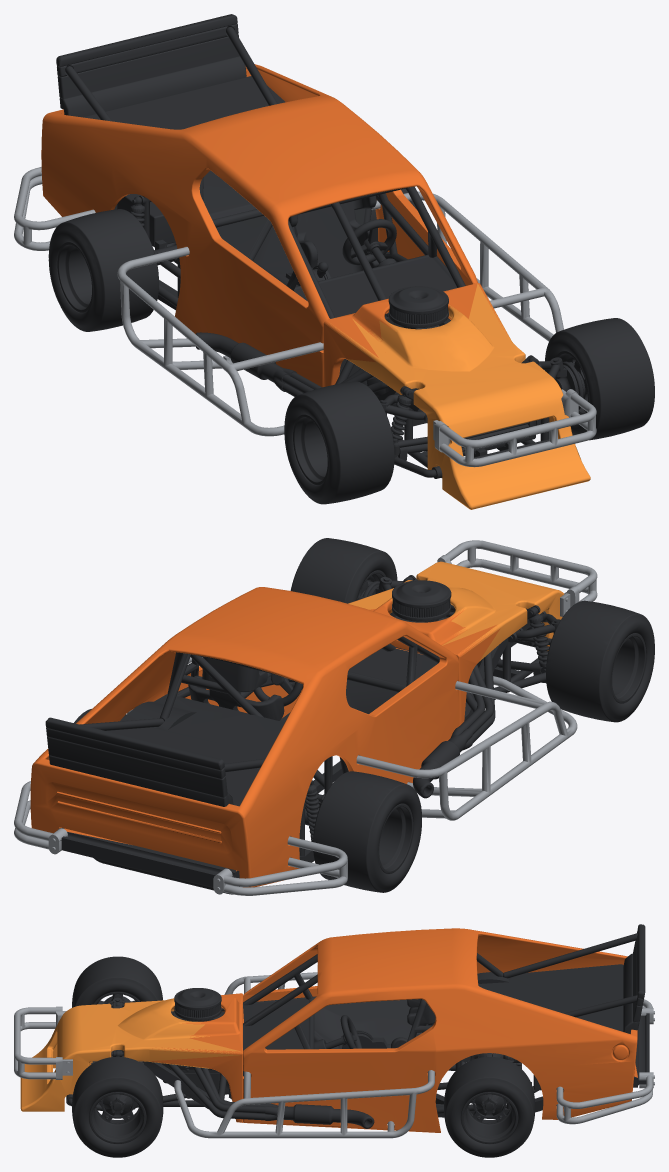
Rendered from TourModifiedDetail150k.fbx.
3 views of the same model, one above another, from view 1: azimuth 30°, elevation 25°; view 2: azimuth 150°, elevation 25°; view 3: azimuth 270°, elevation 25° (orthographic). The views are drawn at different scales.
Parts seen in each view (by area): view 1: BodyPaint, wheel, HoodTrunkPaint, ModifiedMetal, TourModified.Wheel.Ft.R, TourModified.Wheel.Bk.R, TourModified.Wheel.Ft.L; view 2: BodyPaint, wheel, ModifiedMetal, TourModified.Wheel.Ft.R, TourModified.Wheel.Bk.R, HoodTrunkPaint, TourModified.Wheel.Ft.L; view 3: BodyPaint, wheel, HoodTrunkPaint, ModifiedMetal, TourModified.Wheel.Ft.L, TourModified.Wheel.Bk.L, TourModified.Wheel.Ft.R.
Part boxes in pixels (<box>): BodyPaint: <box>41,64,506,387</box>; wheel: <box>56,14,583,478</box>; HoodTrunkPaint: <box>327,283,590,509</box>; ModifiedMetal: <box>14,167,596,467</box>; TourModified.Wheel.Ft.R: <box>284,381,394,504</box>; TourModified.Wheel.Bk.R: <box>48,209,158,331</box>; TourModified.Wheel.Ft.L: <box>544,318,654,440</box>; BodyPaint: <box>30,587,500,887</box>; wheel: <box>45,575,560,894</box>; ModifiedMetal: <box>14,540,597,895</box>; TourModified.Wheel.Ft.R: <box>546,600,654,722</box>; TourModified.Wheel.Bk.R: <box>313,771,421,892</box>; HoodTrunkPaint: <box>348,561,563,662</box>; TourModified.Wheel.Ft.L: <box>290,538,397,603</box>; BodyPaint: <box>151,928,637,1132</box>; wheel: <box>66,924,649,1128</box>; HoodTrunkPaint: <box>20,998,240,1111</box>; ModifiedMetal: <box>14,972,654,1138</box>; TourModified.Wheel.Ft.L: <box>72,1056,163,1157</box>; TourModified.Wheel.Bk.L: <box>444,1057,535,1157</box>; TourModified.Wheel.Ft.R: <box>72,956,162,1054</box>.
Bounding box in the file's own units: 133 × 74.66 × 290.
